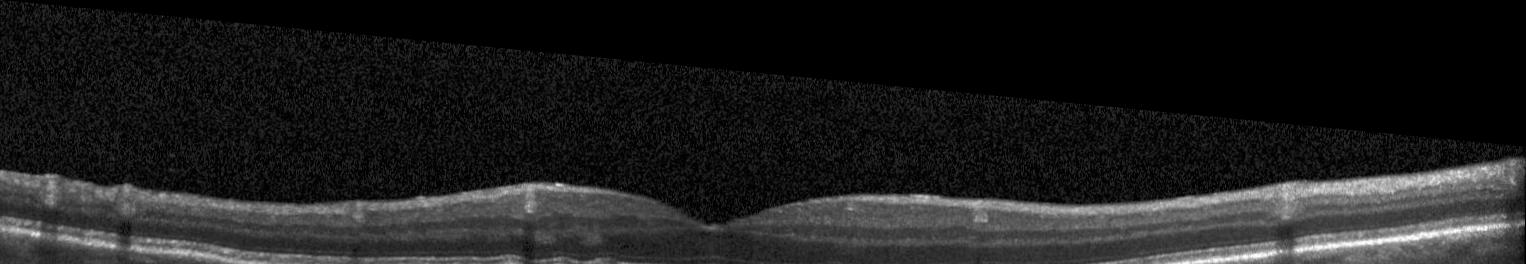retinal_drusen: (821, 254, 850, 264), (596, 251, 618, 264), (500, 256, 527, 264), (550, 254, 569, 264)
